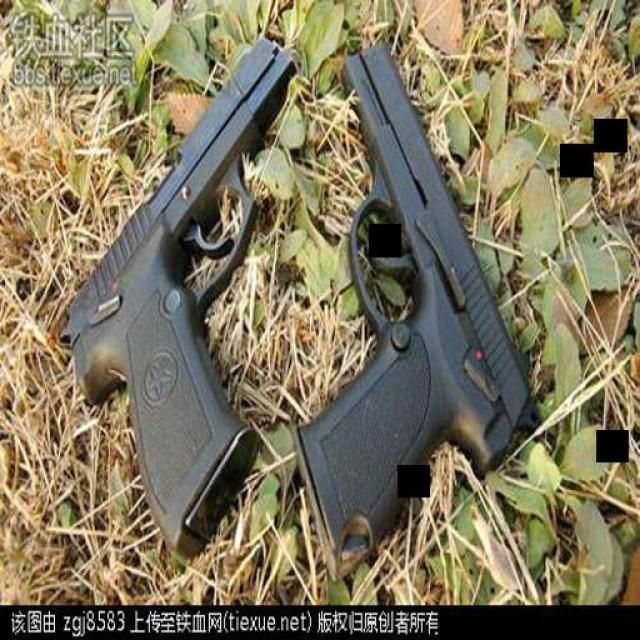gun: (55, 32, 297, 562), (290, 40, 532, 561)
